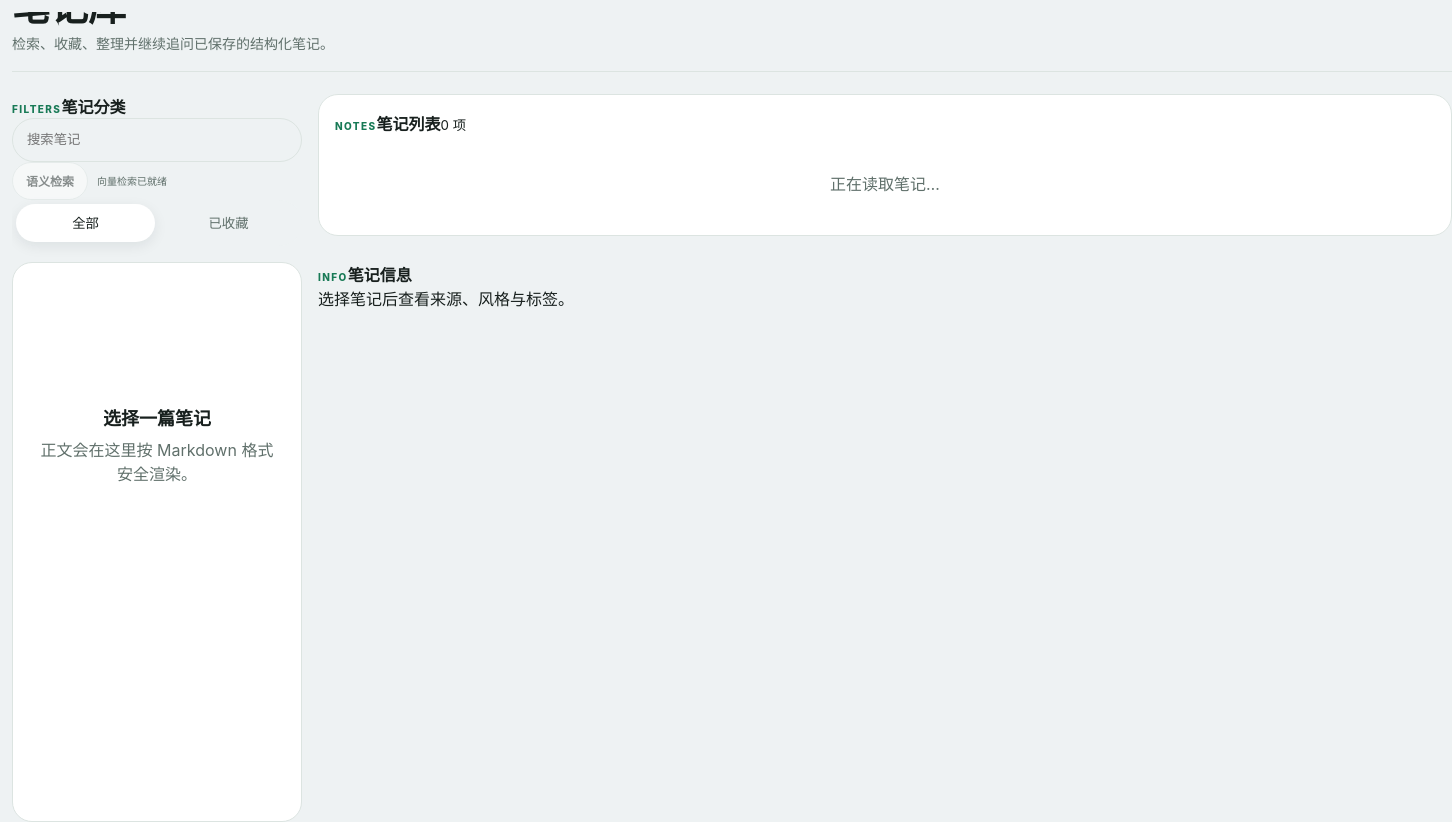
Test: LibraryWorkspace › supports semantic retrieval, reindexing, and explicit local-agent handoff
(page scrolled)
Type "矩阵" into the field labelled "搜索笔记" at (157,140), box [12,118,302,162]
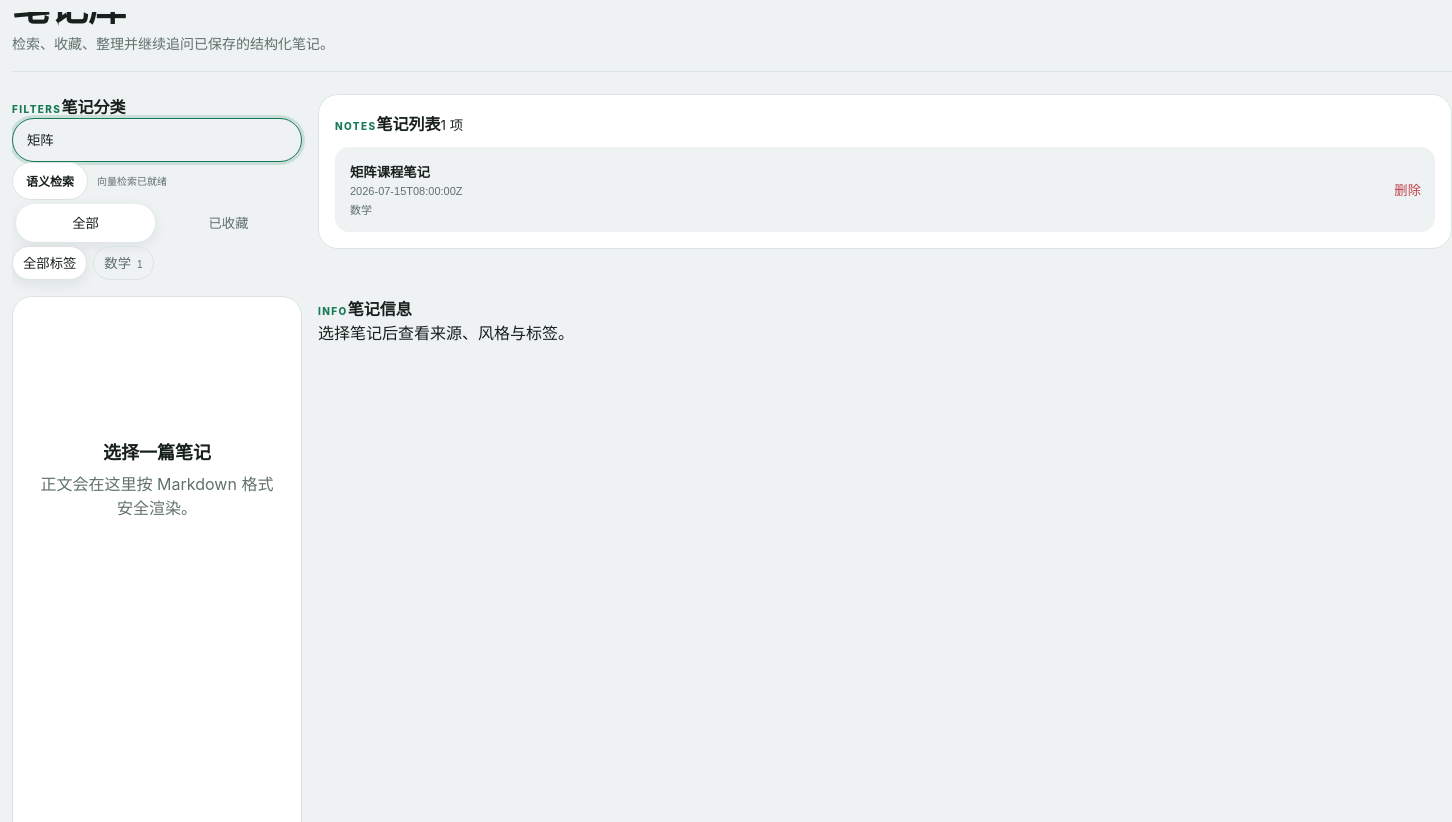
Click the button "语义检索" at (50,181), box [12,162,88,200]
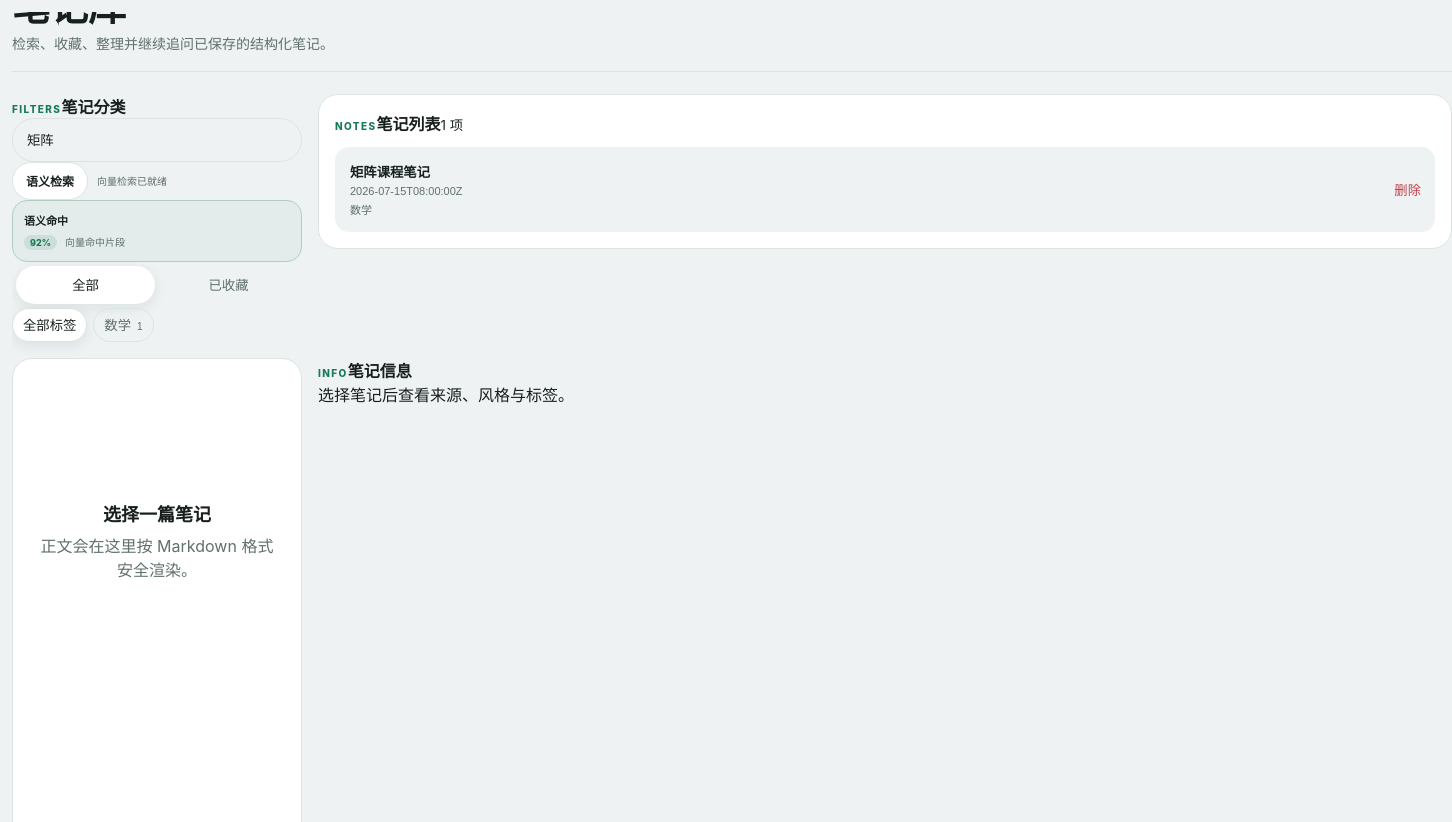
Expected: the text "向量命中片段" is shown, [65,236,125,248]
Click the button with aria-label "打开笔记 矩阵课程笔记" at (390,172), box [341,153,1382,226]
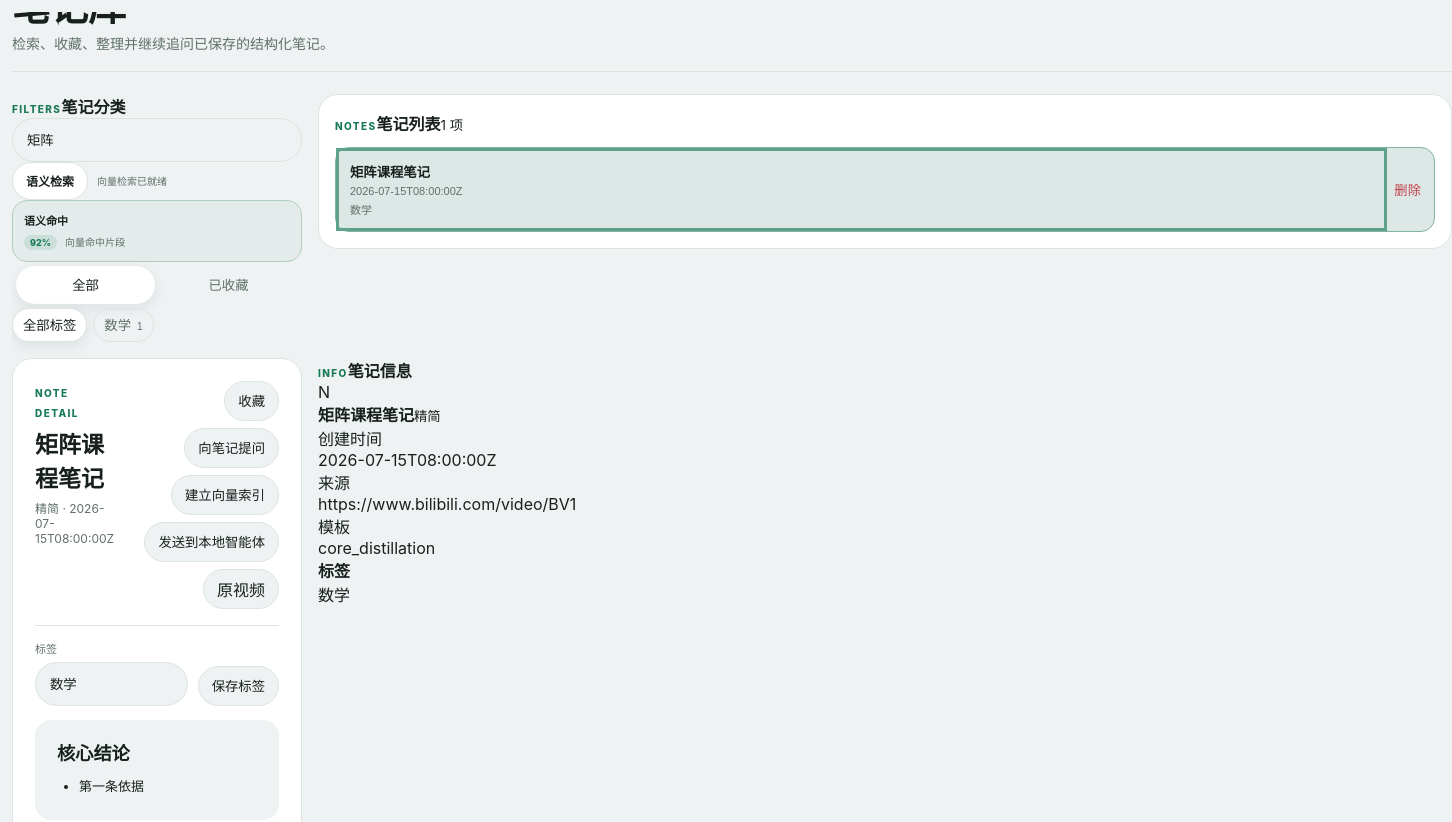
Click the button "建立向量索引" at (225,495), box [171,475,279,515]
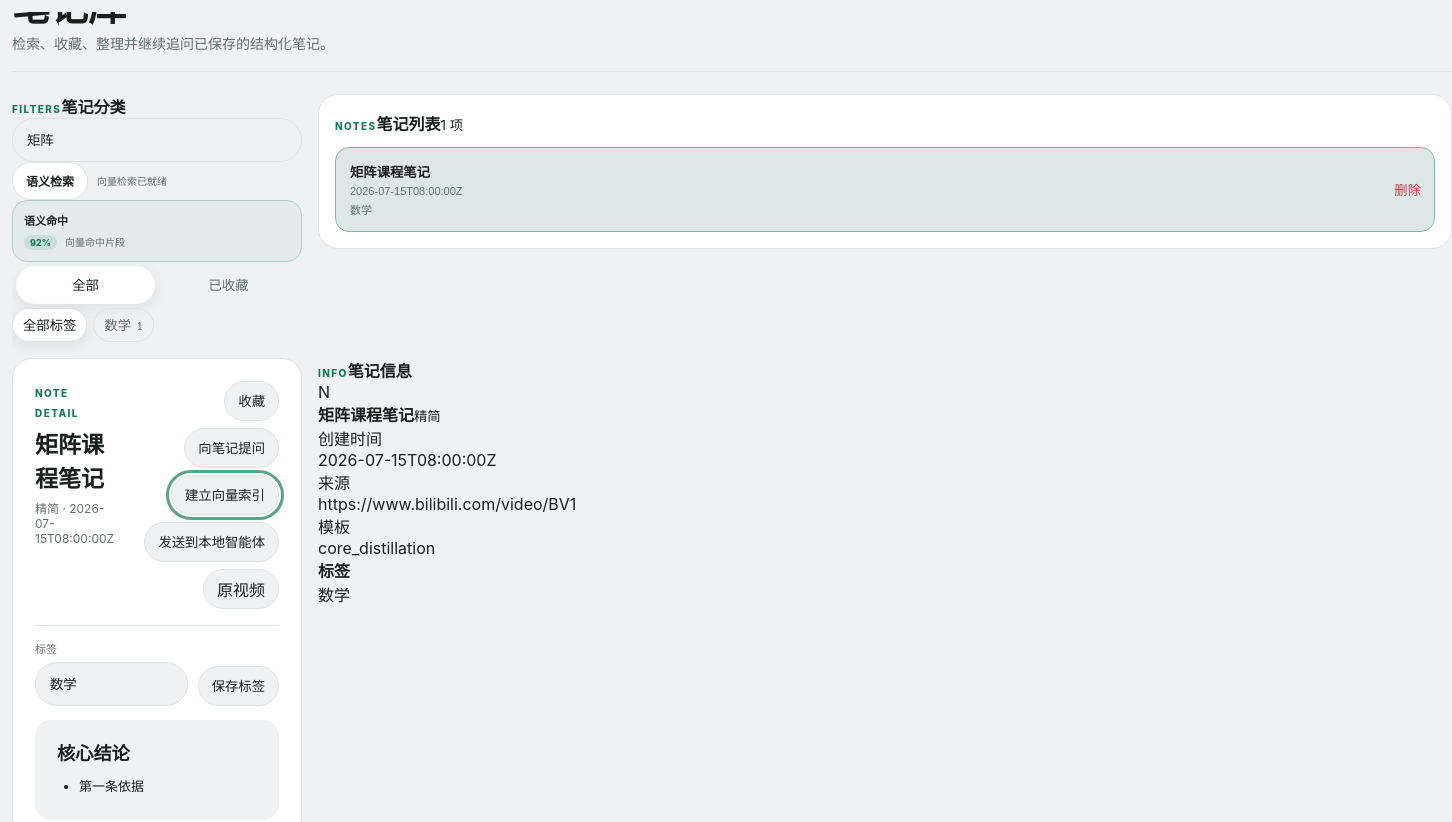
Click the button "发送到本地智能体" at (212,542), box [144,522,279,562]
(page scrolled)
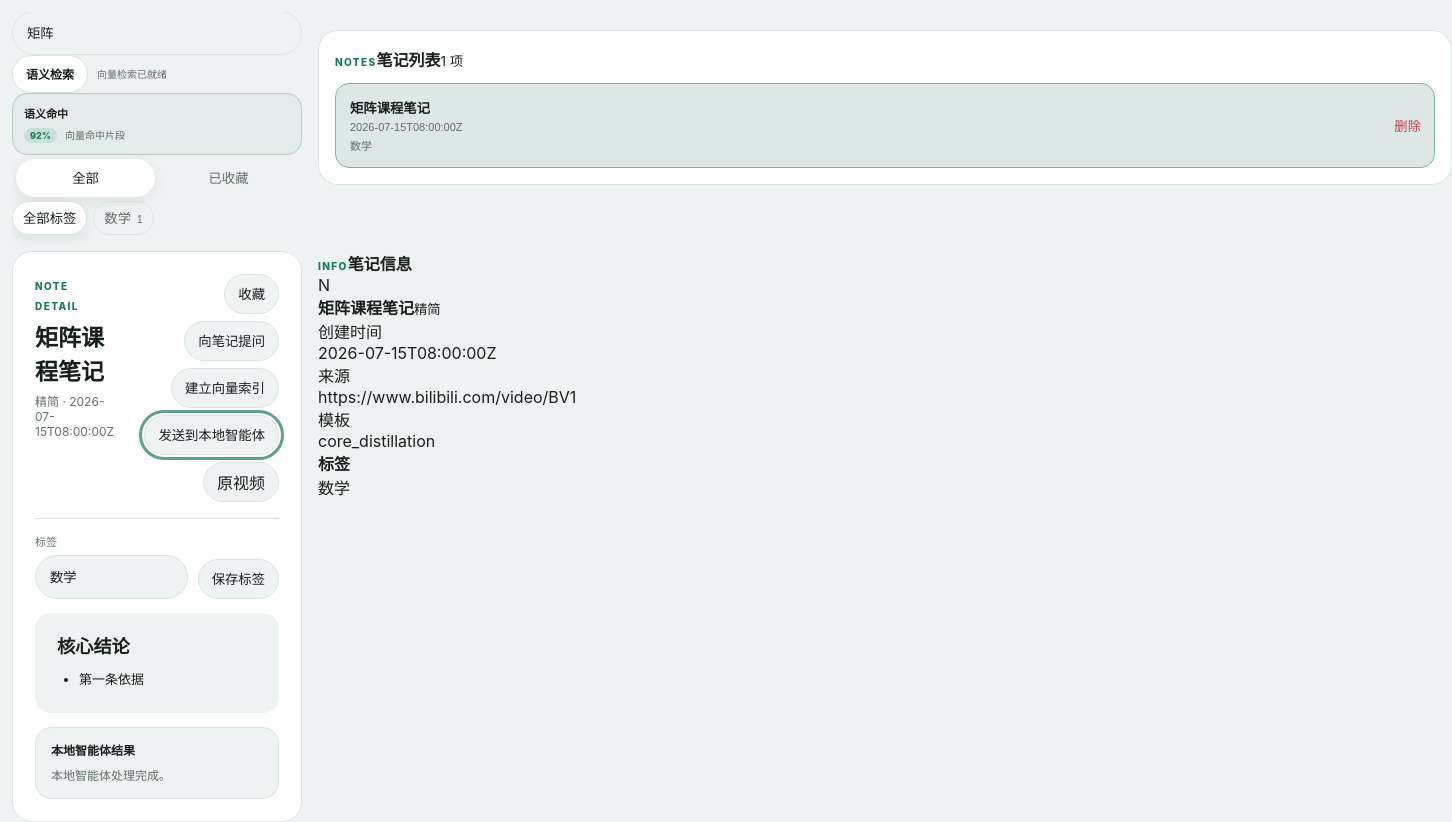
Expected: the text "本地智能体处理完成。" is shown, [51,768,171,783]
